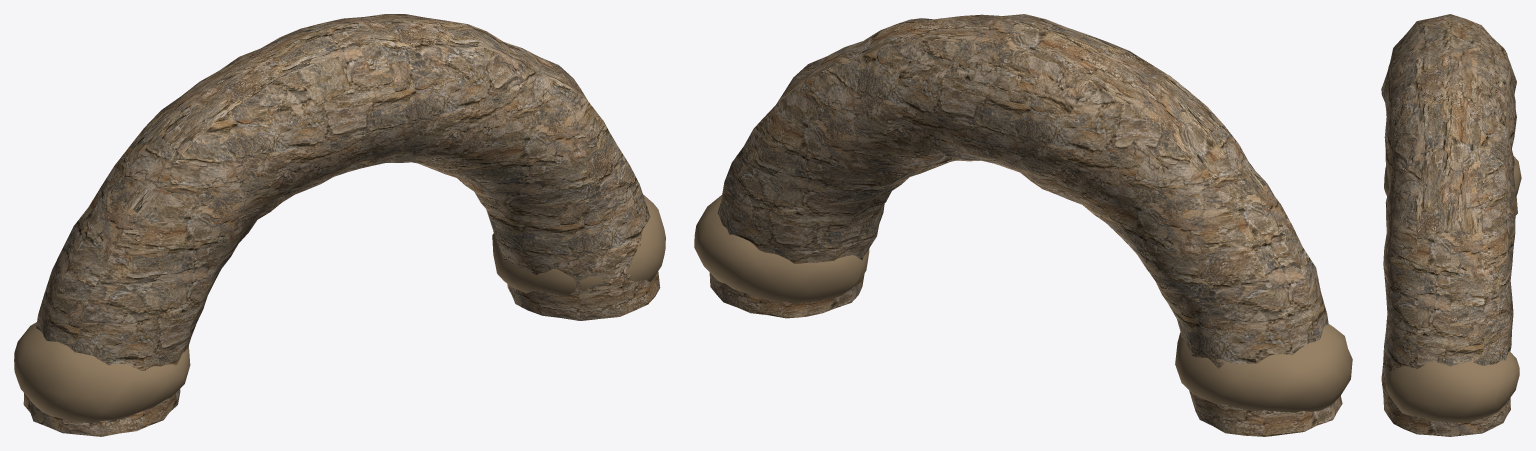
File: rock-arch-formation-v01.glb
3 renders of one model, left to right at view 1: azimuth 30°, elevation 25°; view 2: azimuth 150°, elevation 25°; view 3: azimuth 270°, elevation 25°, orthographic. The views are drawn at different scales.
Visible parts, largest first — view 1: rock-arch-formation; view 2: rock-arch-formation; view 3: rock-arch-formation.
Boxes of the visible parts, x1,y1,x2,y2 form: rock-arch-formation: (14, 14, 665, 436); rock-arch-formation: (694, 14, 1352, 436); rock-arch-formation: (1381, 14, 1521, 436).
Size of the model in its own units: 5.29 by 2.56 by 1.21.
1 material, 1 textured.
